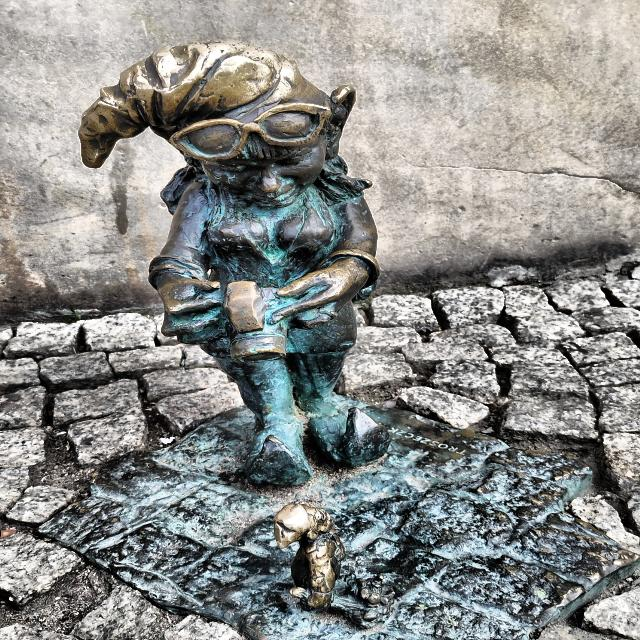Troszka i Adoratorek: (38, 45, 640, 640)
